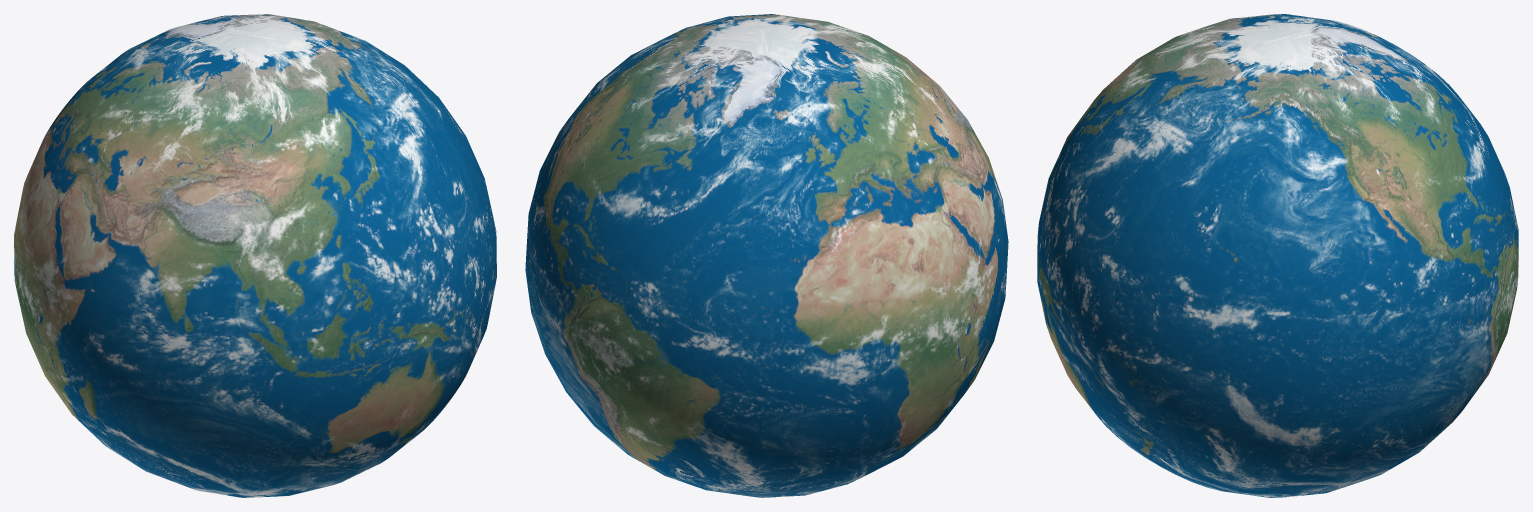
The model's file is planet.obj.
The picture shows the model from 3 angles, left to right: view 1: azimuth 30°, elevation 25°; view 2: azimuth 150°, elevation 25°; view 3: azimuth 270°, elevation 25°; orthographic projection.
Visible parts, largest first — view 1: Sphere; view 2: Sphere; view 3: Sphere.
Boxes of the visible parts, <box> form: Sphere: <box>14,14,496,497</box>; Sphere: <box>525,14,1008,497</box>; Sphere: <box>1037,14,1518,497</box>.
Size of the model in its own units: 1.99 by 1.99 by 1.99.
